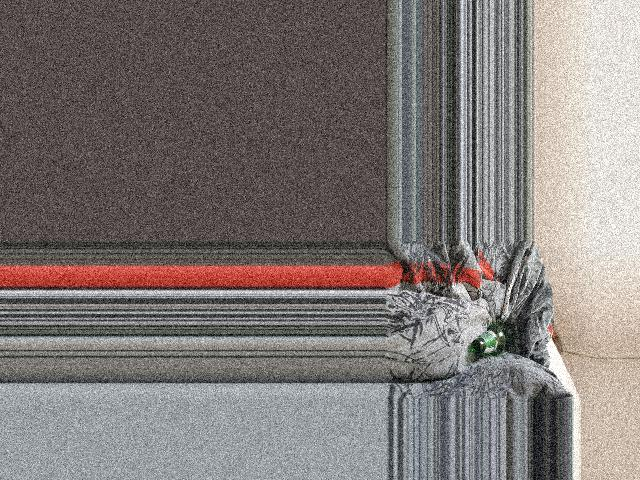beer: (470, 323, 515, 356)
